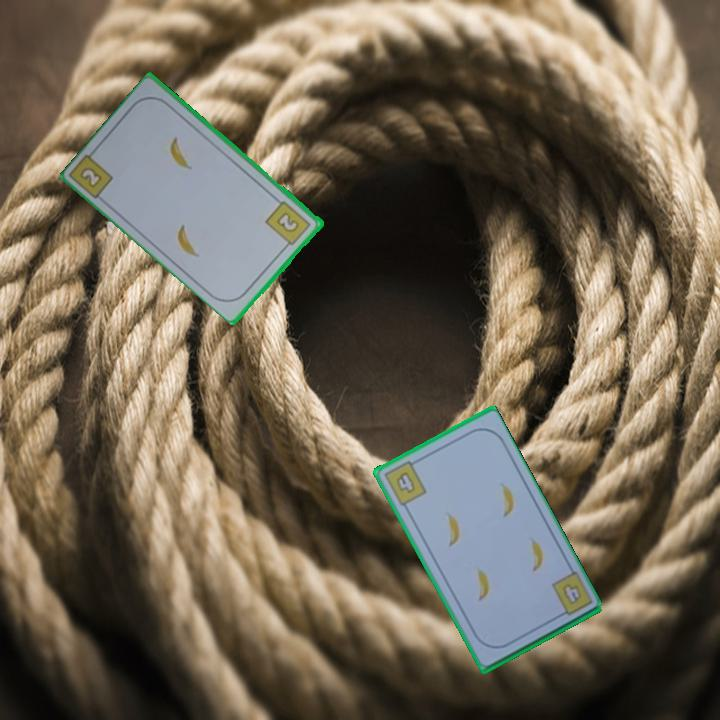2b: (262, 197, 314, 252), (76, 163, 105, 191)
4b: (380, 456, 429, 509), (558, 579, 584, 608)
